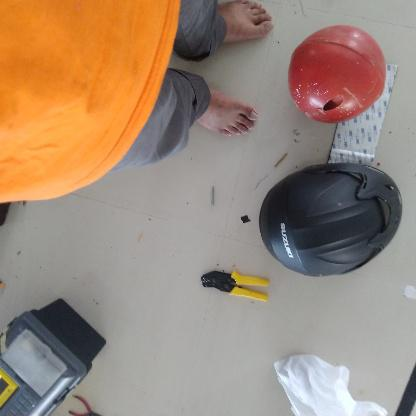red_buoy: (285, 25, 386, 126)
